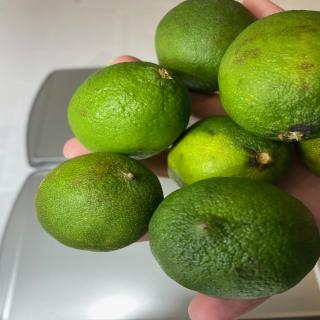Chilli: (35, 1, 319, 300)
Lemon: (148, 176, 319, 300), (217, 9, 320, 142), (35, 151, 164, 252), (67, 61, 192, 160), (154, 0, 257, 92), (167, 114, 292, 188), (296, 137, 320, 175)
